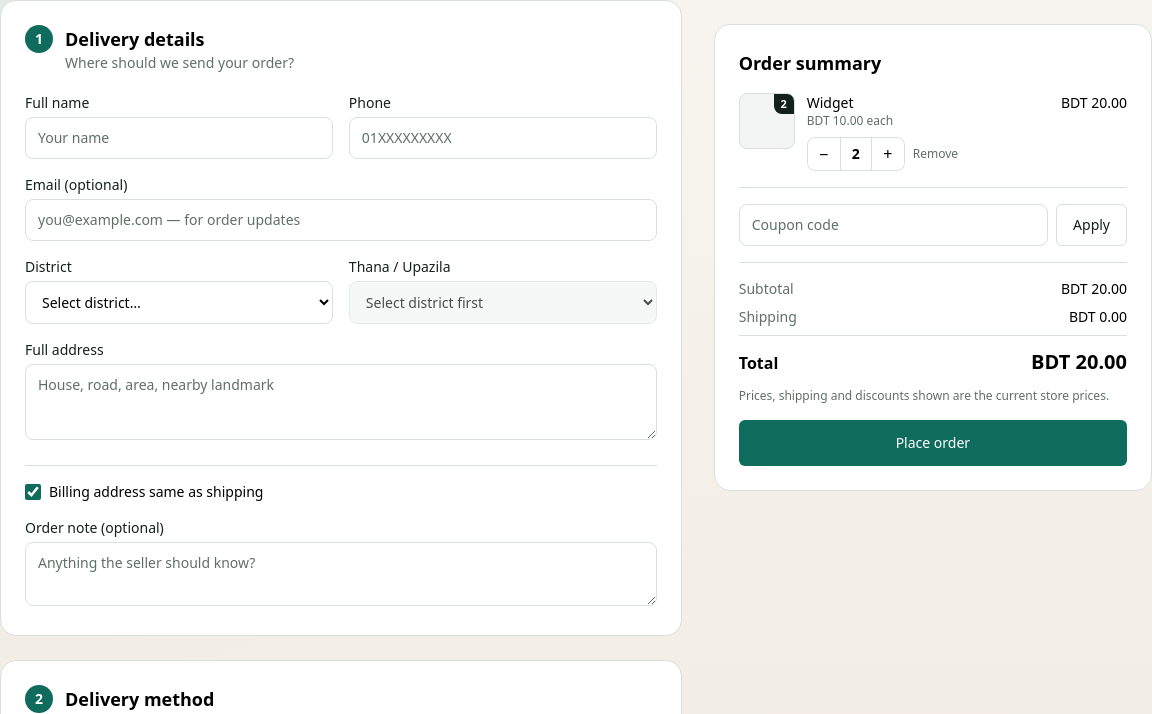
Test: CheckoutForm › loads location cascade, quotes shipping, and updates estimated total
Expected: the heading "Delivery method" is shown, x1=65 y1=687 x2=214 y2=711
Select "Dhaka" in the dropdown labelled "District" at (179, 302), box x1=25 y1=281 x2=333 y2=324
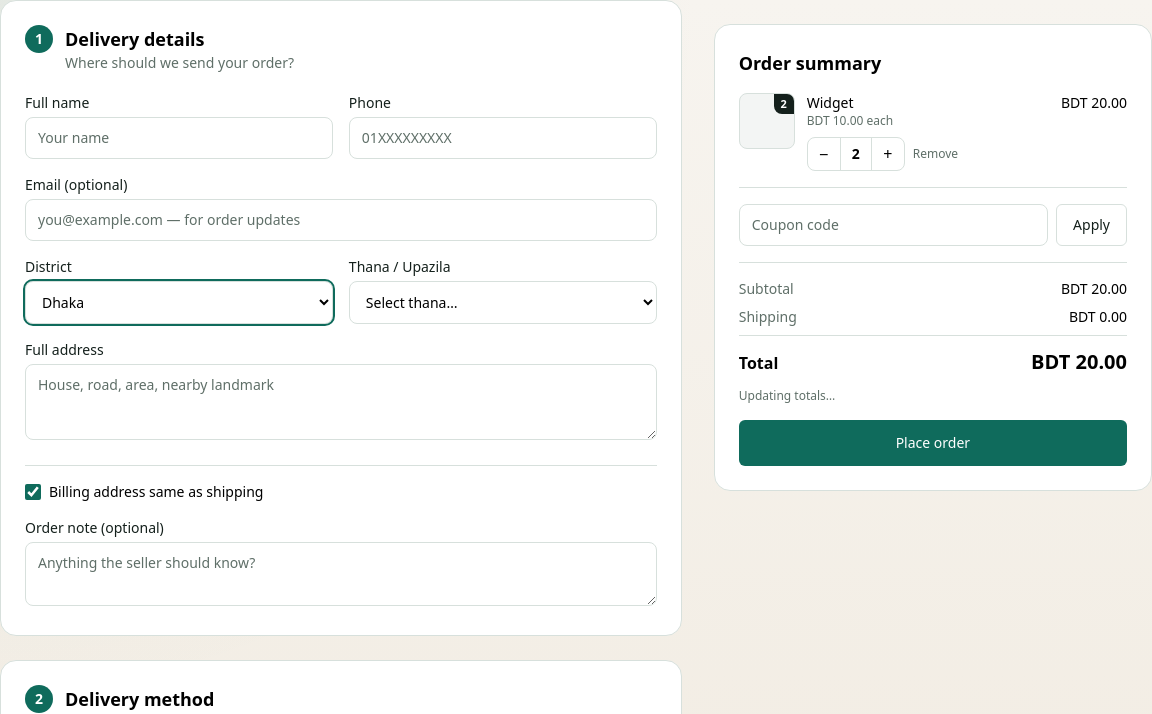
Expected: the dropdown labelled "Thana / Upazila" is enabled
Select "Tejgaon" in the dropdown labelled "Thana / Upazila" at (503, 302), box x1=349 y1=281 x2=657 y2=324
(page scrolled)
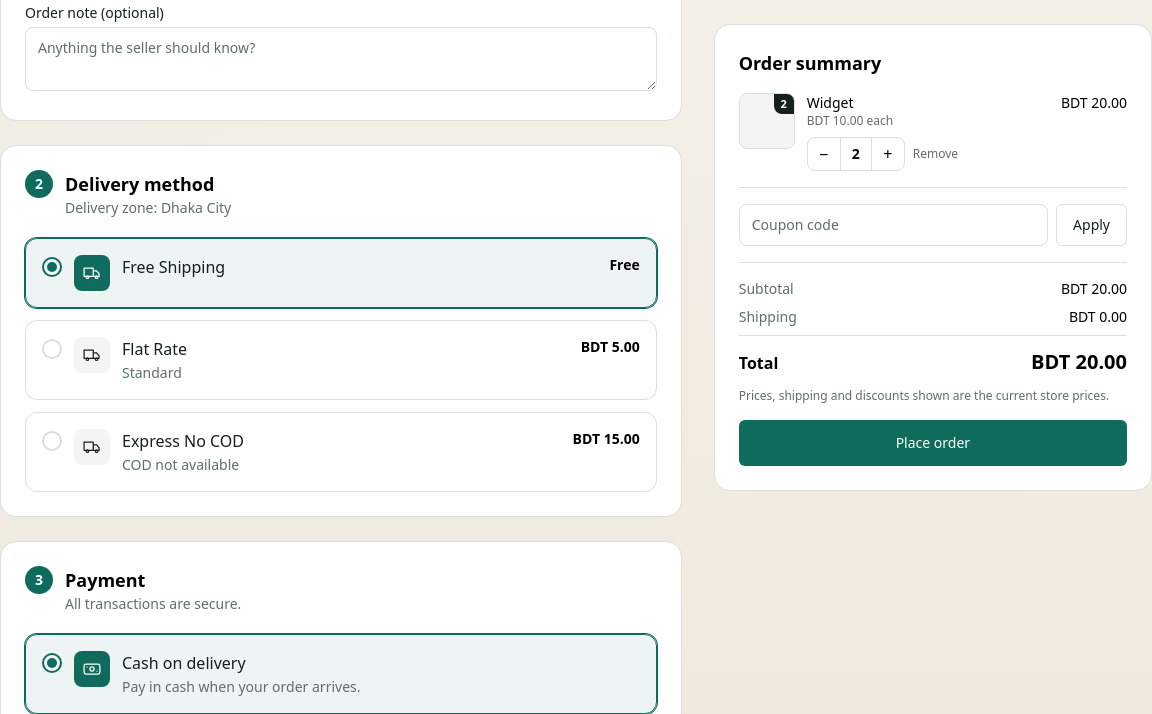
Expected: the text "Delivery zone: Dhaka City" is shown, x1=65 y1=198 x2=231 y2=218
Click the radio button labelled "Flat Rate BDT 5.00 Standard" at (92, 355), box x1=25 y1=320 x2=657 y2=400
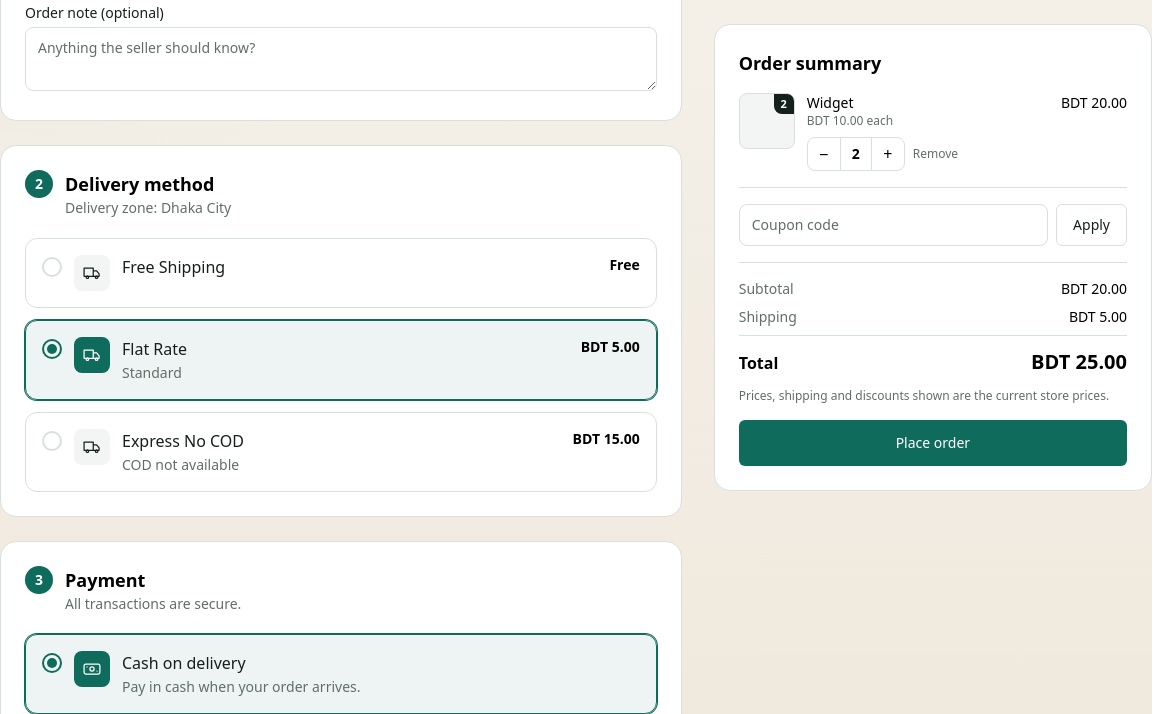
Expected: the text "Shipping BDT 5.00" is shown, x1=739 y1=307 x2=1127 y2=327
